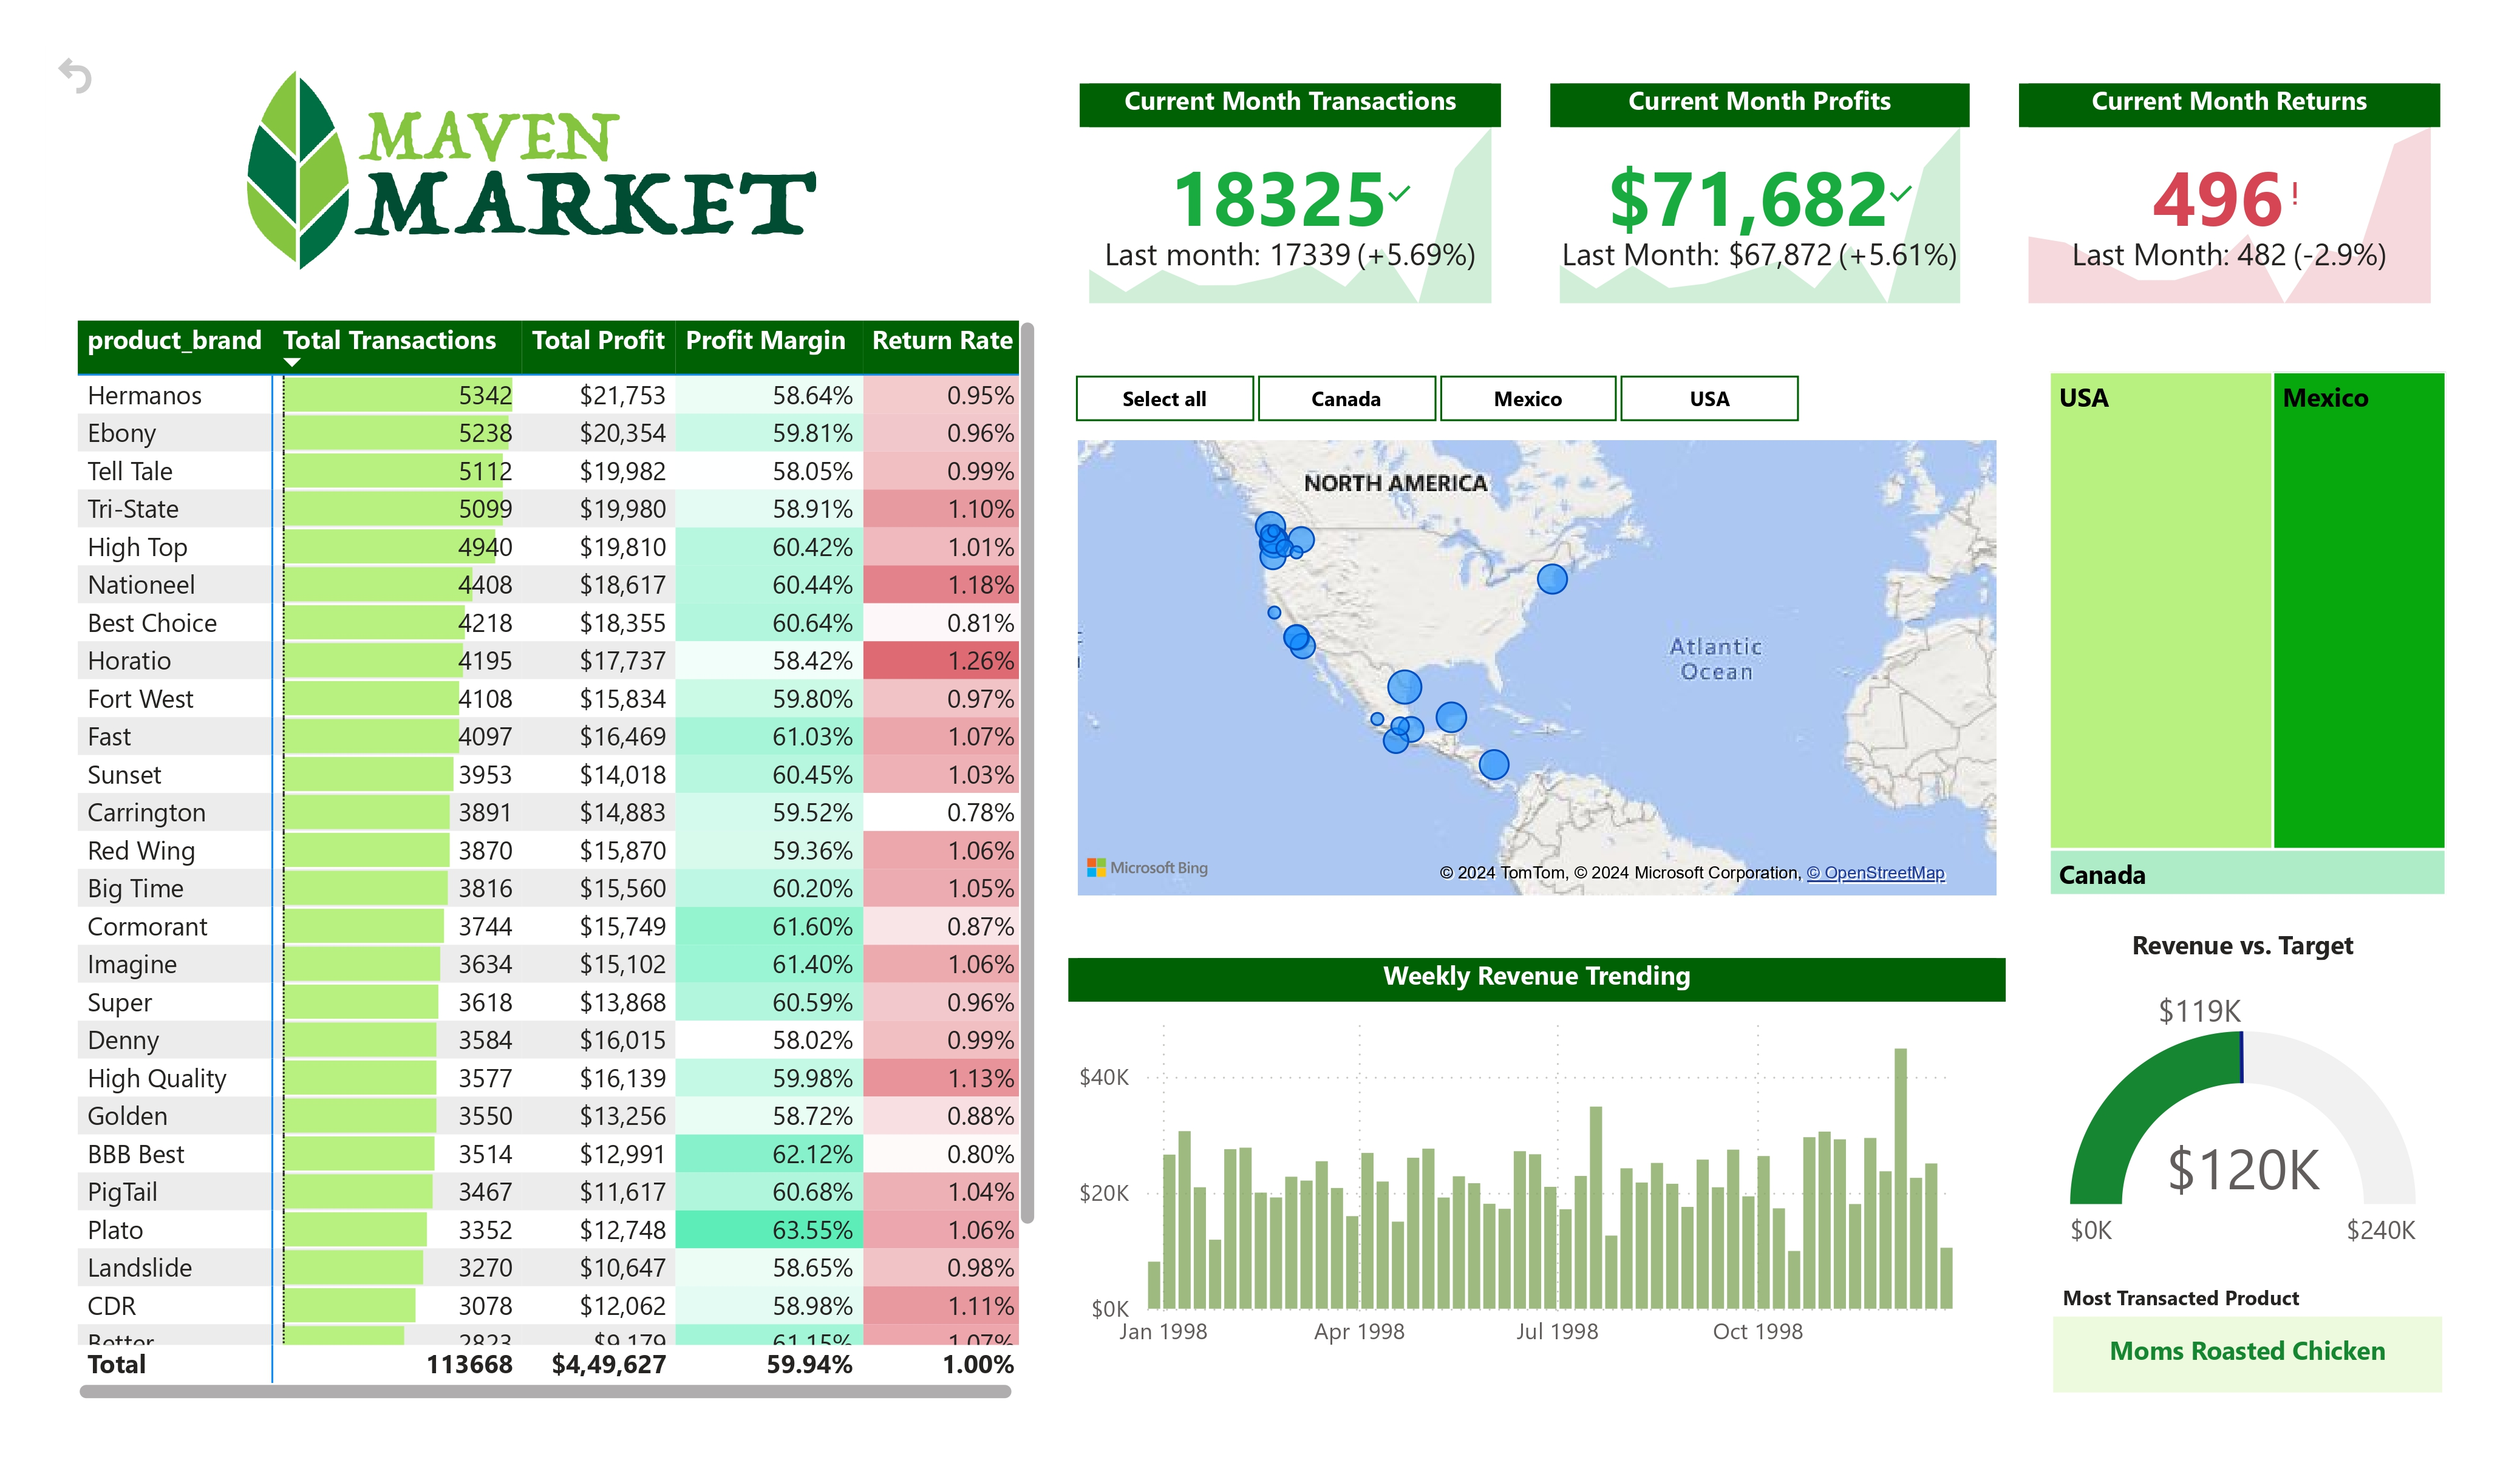

The dashboard page shown, as its layout file describes it:
{"tool":"powerbi","page":{"name":"Topline Performance","canvas":[1280,720],"ordinal":0},"visuals":[{"type":"image","box":[73.7,0,361.4,129.8],"z":0},{"type":"pivotTable","fields":{"Rows":["Products.product_brand"],"Values":["Measure Table.Total Transactions","Measure Table.Total Profit","Measure Table.Profit Margin","Measure Table.Return Rate"]},"box":[11.7,140.3,515.6,579.2],"z":1000},{"type":"kpi","title":"Current Month Transactions","fields":{"Indicator":["Measure Table.Total Transactions"],"Goal":["Measure Table.Last Month Transactions"],"TrendLine":["Calendar.Start of Month"]},"box":[545.1,19.8,221.5,121.5],"z":2000},{"type":"kpi","title":"Current Month Profits","fields":{"TrendLine":["Calendar.Start of Month"],"Indicator":["Measure Table.Total Profit"],"Goal":["Measure Table.Last Month Profit"]},"box":[792.8,19.8,221.5,121.5],"z":3000},{"type":"kpi","title":"Current Month Returns","fields":{"TrendLine":["Calendar.Start of Month"],"Indicator":["Measure Table.Total Returns"],"Goal":["Measure Table.Last Month Returns"]},"box":[1040.5,19.8,221.5,121.5],"z":4000},{"type":"map","fields":{"Category":["Stores.store_city"],"Size":["Measure Table.Total Transactions"]},"box":[538.8,203.4,494.1,250],"z":5000},{"type":"slicer","fields":{"Values":["Stores.store_country"]},"box":[516.7,166.6,430.9,36.8],"z":6000},{"type":"treemap","fields":{"Group":["Stores.store_country","Stores.store_state","Stores.store_city"],"Values":["Measure Table.Total Transactions"]},"box":[1050.9,166.7,219.3,286],"z":7000},{"type":"columnChart","title":"Weekly Revenue Trending","fields":{"Y":["Measure Table.Total Revenue"],"Category":["Calendar.Start of Week"]},"box":[538.6,480.7,494.7,215.8],"z":8000},{"type":"gauge","title":"Revenue vs. Target","fields":{"Y":["Measure Table.Total Revenue"],"TargetValue":["Measure Table.Revenue Target"]},"box":[1057.9,464.9,200,178.9],"z":9000},{"type":"card","fields":{"Values":["Products.product_name"]},"box":[1058,670.5,205,40],"z":10000},{"type":"textbox","box":[1058,645.5,206.7,40],"z":11000},{"type":"actionButton","box":[0,0,38.6,31.6],"z":12000}]}

Visuals, with their boxes on the page's 1280x720 design canvas (x1, y1, x2, y2). These are canvas units, not pixel positions in the 2520x1457 screenshot, which may show the page scaled, cropped or inside an application window:
image: bbox(74, 0, 435, 130)
pivotTable - Products.product_brand x Measure Table.Total Transactions: bbox(12, 140, 527, 720)
"Current Month Transactions" kpi: bbox(545, 20, 767, 141)
"Current Month Profits" kpi: bbox(793, 20, 1014, 141)
"Current Month Returns" kpi: bbox(1040, 20, 1262, 141)
map - Stores.store_city x Measure Table.Total Transactions: bbox(539, 203, 1033, 453)
slicer - Stores.store_country: bbox(517, 167, 948, 203)
treemap - Stores.store_country x Stores.store_state: bbox(1051, 167, 1270, 453)
"Weekly Revenue Trending" columnChart: bbox(539, 481, 1033, 696)
"Revenue vs. Target" gauge: bbox(1058, 465, 1258, 644)
card - Products.product_name: bbox(1058, 670, 1263, 710)
textbox: bbox(1058, 646, 1265, 686)
actionButton: bbox(0, 0, 39, 32)
